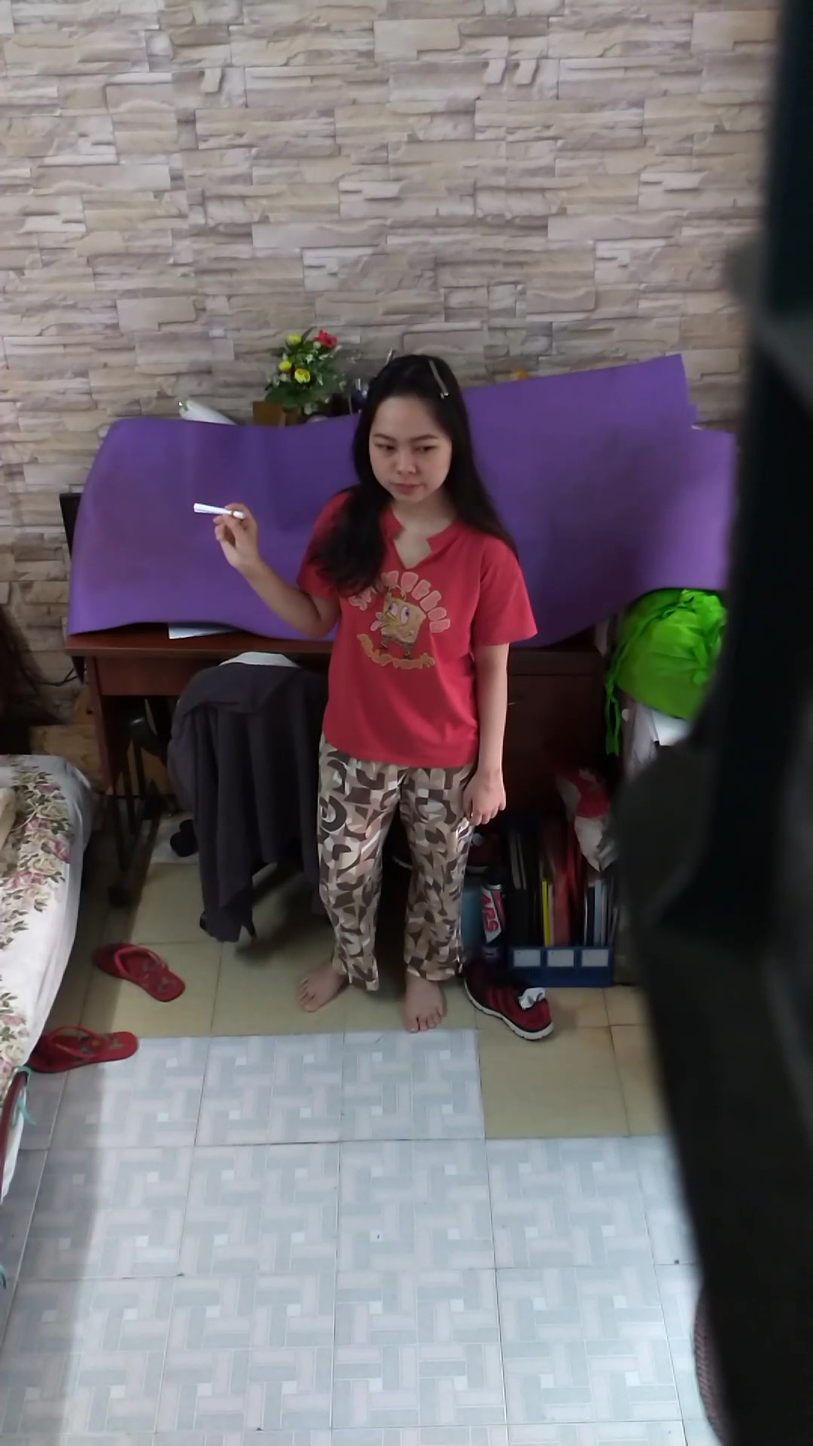cigarette: (187, 499, 236, 518)
person: (210, 351, 537, 1039)
